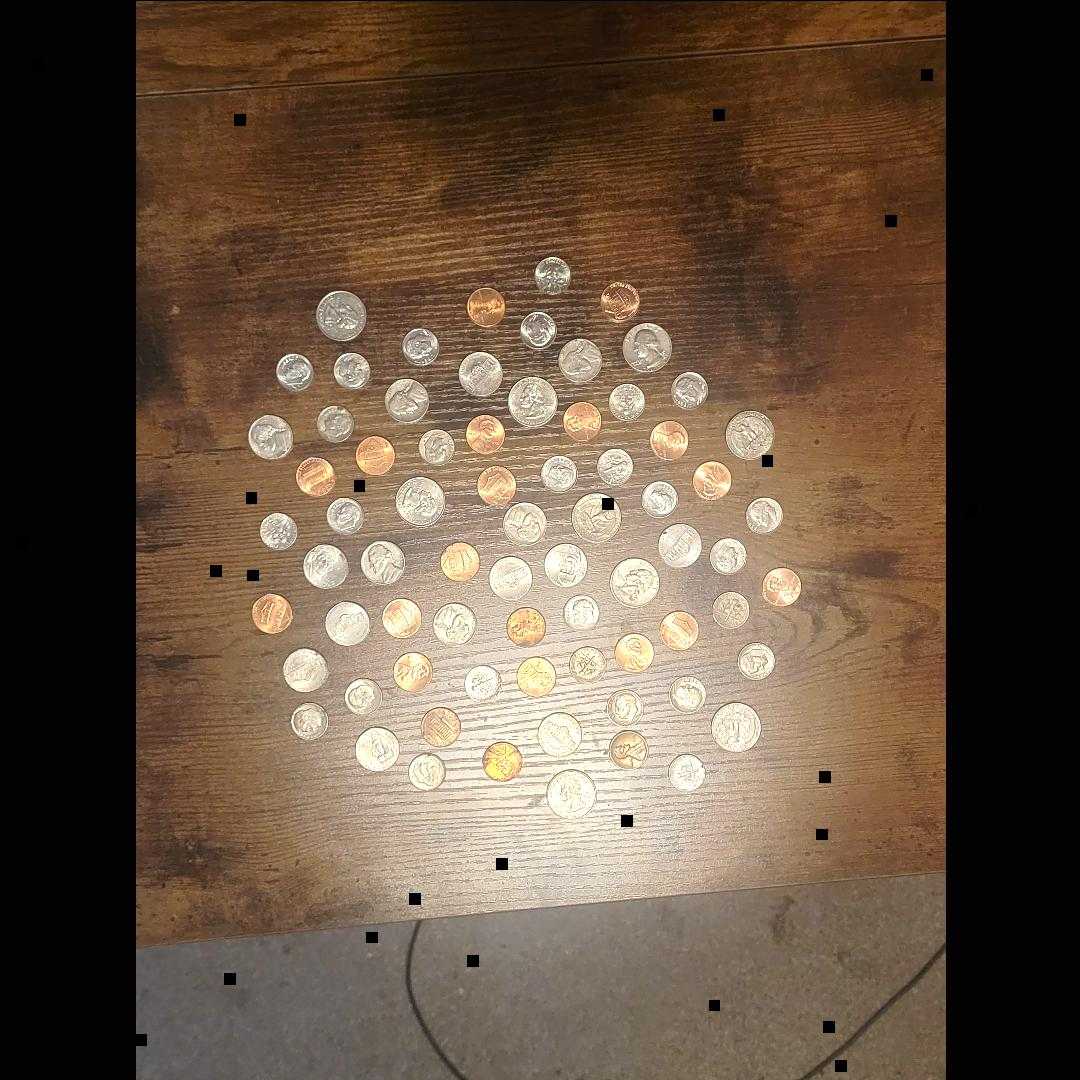Dime: (462, 664, 500, 702), (290, 702, 328, 740), (712, 592, 749, 630), (533, 256, 569, 295), (260, 513, 298, 549), (326, 495, 362, 533), (407, 752, 445, 788), (520, 310, 556, 348), (540, 454, 576, 492), (668, 676, 704, 714), (403, 326, 437, 366), (417, 428, 454, 464), (609, 383, 646, 419), (667, 754, 704, 790), (345, 677, 381, 713), (316, 406, 352, 442), (710, 538, 746, 574), (569, 648, 605, 684), (746, 496, 782, 532), (276, 354, 311, 390), (670, 371, 706, 406), (606, 690, 642, 725), (563, 594, 597, 631), (333, 353, 367, 389), (640, 480, 674, 516), (738, 642, 772, 678), (598, 449, 632, 483), (898, 1064, 928, 1080)
Nickel: (282, 647, 328, 691), (301, 544, 347, 588), (248, 413, 292, 459), (324, 599, 368, 645), (430, 601, 476, 645), (355, 724, 397, 770), (543, 542, 585, 588), (459, 351, 501, 397), (538, 711, 580, 756), (360, 540, 402, 584), (502, 500, 544, 544), (558, 339, 600, 383), (658, 524, 700, 568), (384, 379, 428, 421), (489, 557, 531, 597)
Penny: (462, 414, 504, 456), (516, 656, 556, 698), (599, 280, 639, 322), (252, 593, 292, 633), (382, 598, 422, 638), (560, 400, 602, 438), (475, 464, 515, 503), (609, 729, 648, 769), (296, 456, 334, 496), (441, 542, 479, 582), (419, 707, 457, 747), (391, 653, 431, 691), (355, 435, 393, 474), (647, 420, 685, 459), (660, 609, 698, 648), (693, 460, 731, 498), (762, 566, 800, 604), (505, 607, 543, 645), (464, 288, 502, 326), (614, 632, 652, 670), (482, 742, 520, 778), (832, 1058, 872, 1080)
Quarter: (546, 768, 598, 818), (393, 476, 445, 526), (316, 289, 364, 341), (725, 410, 774, 458), (572, 493, 620, 541), (711, 702, 759, 750), (610, 557, 656, 607), (624, 322, 670, 370), (509, 378, 557, 424)
